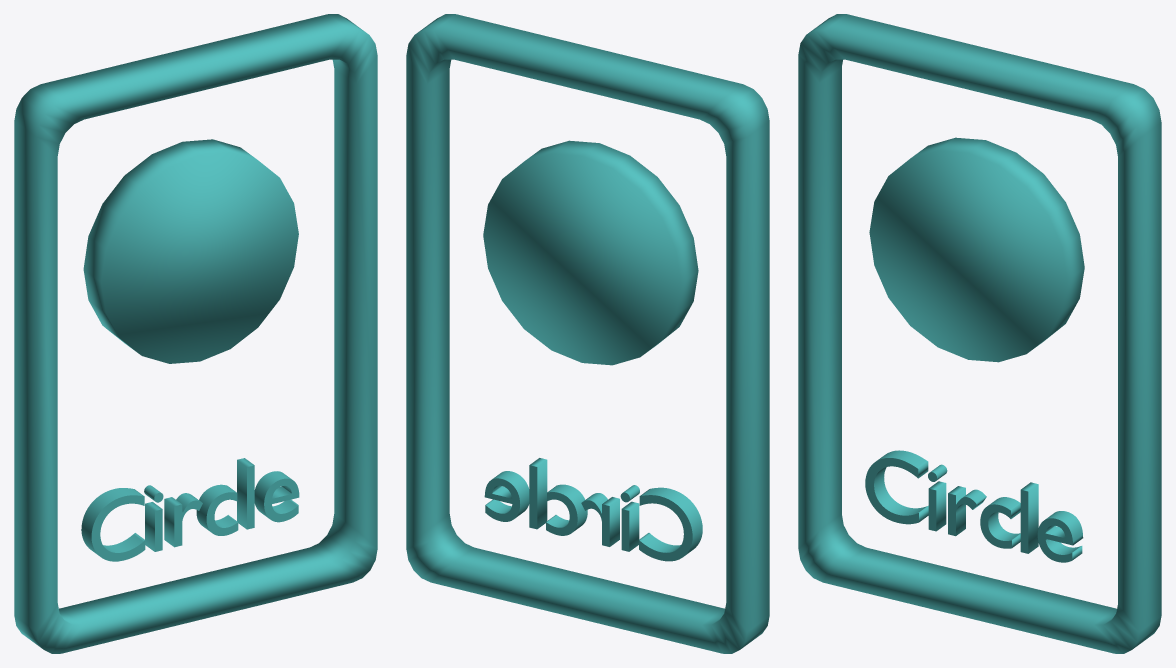
3 views of the same model, side by side, from view 1: azimuth 30°, elevation 25°; view 2: azimuth 150°, elevation 25°; view 3: azimuth 330°, elevation 25° (orthographic).
Parts seen in each view (by area): view 1: Circle.005; view 2: Circle.005; view 3: Circle.005.
Boxes of the visible parts, x1=… form: Circle.005: x1=14, y1=14, x2=377, y2=653; Circle.005: x1=406, y1=14, x2=769, y2=653; Circle.005: x1=798, y1=14, x2=1161, y2=653.
Bounding box in the file's own units: 1 × 1.56 × 0.1143.
